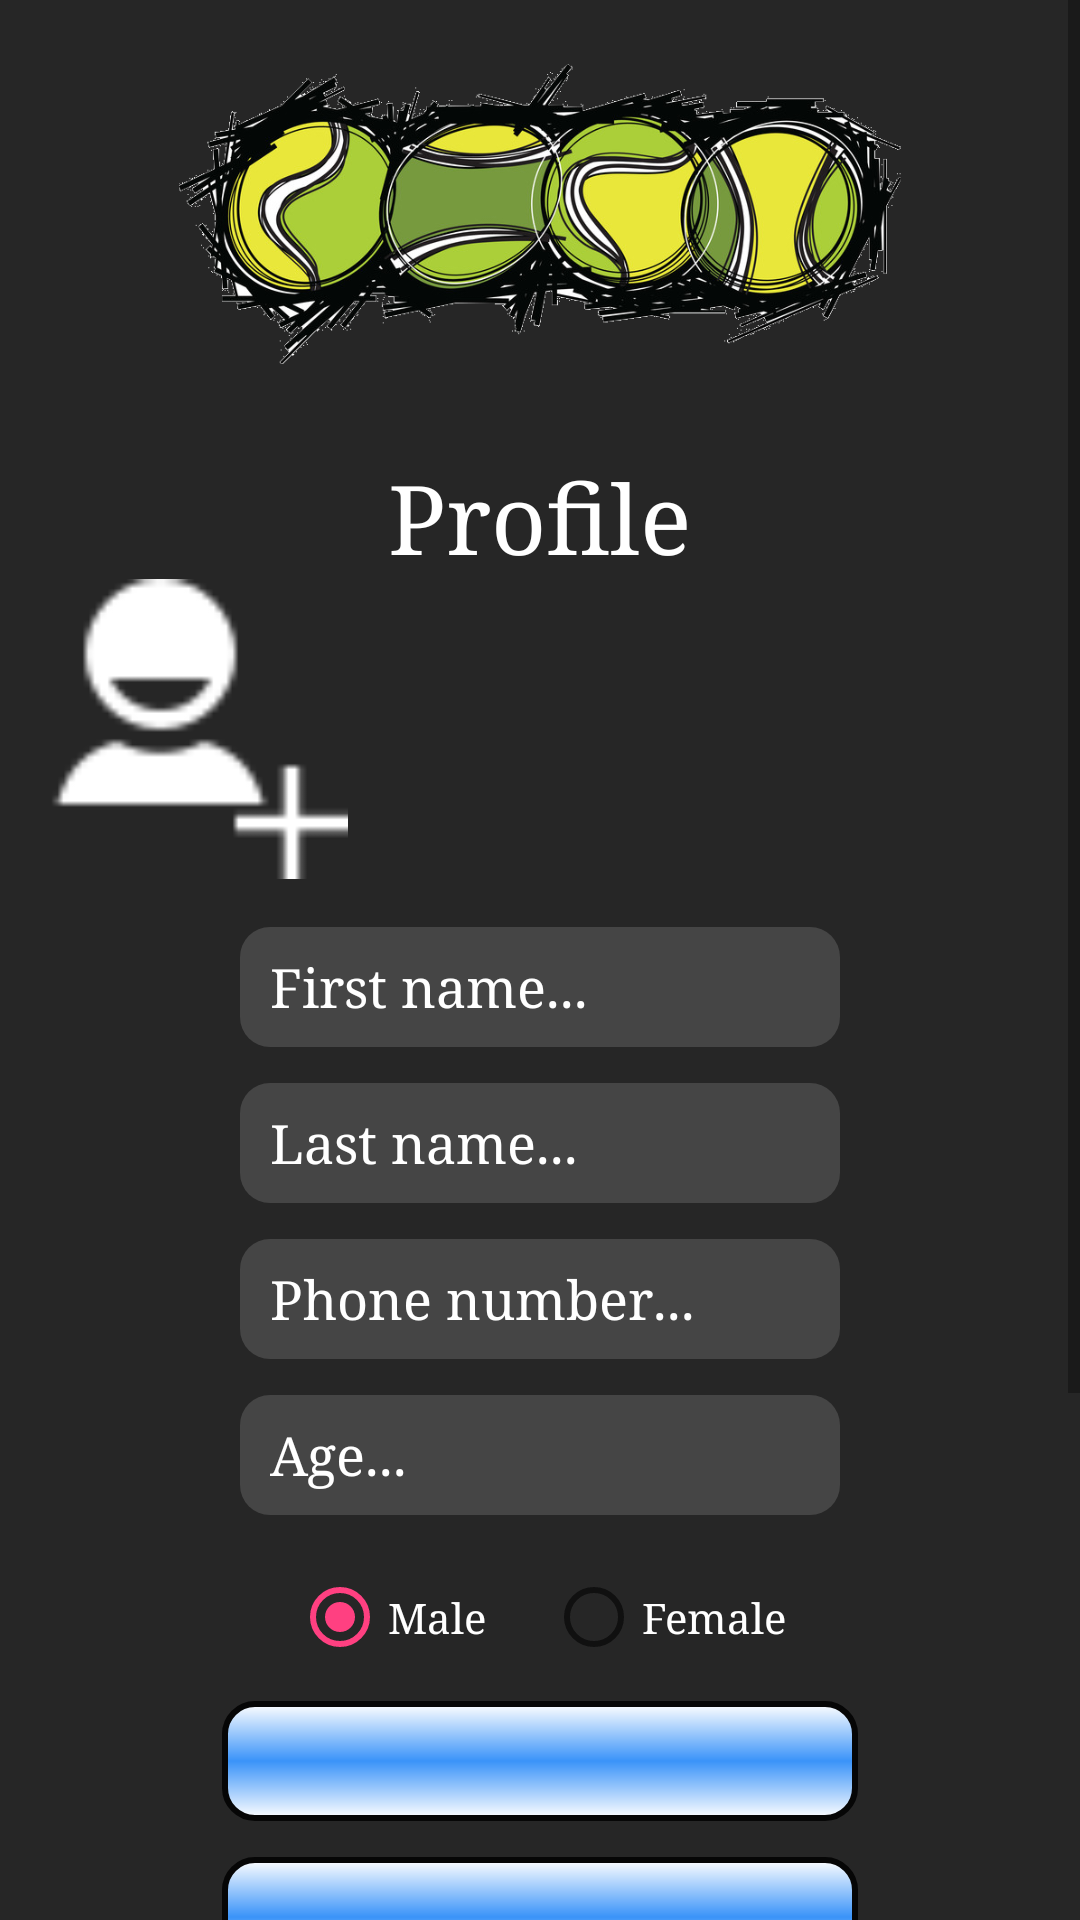

Icon bounding boxes for this 1080px x 1920px phone screenshot, format Rect(x1, y1, x2, y2):
add contact: Rect(53, 579, 348, 879)
